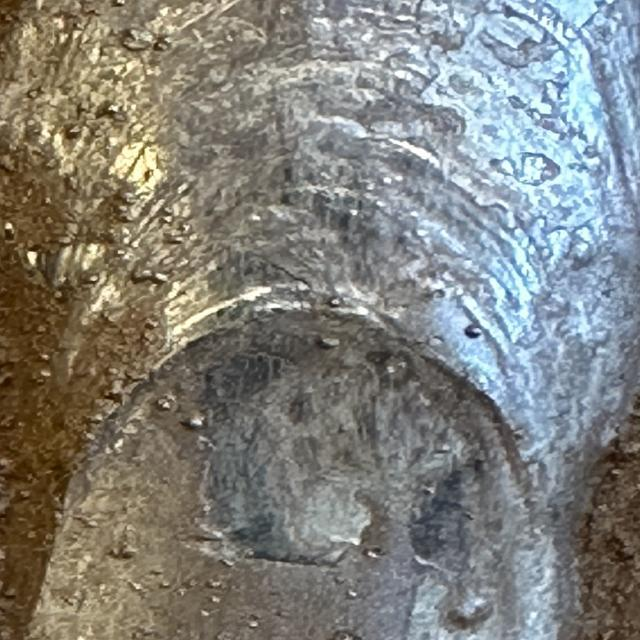Spatters: (447, 594, 495, 629), (162, 200, 192, 244), (122, 29, 172, 51), (113, 192, 138, 222), (180, 411, 207, 430), (110, 541, 138, 559), (132, 270, 168, 284), (153, 394, 177, 411), (73, 515, 98, 527), (330, 631, 362, 640), (63, 124, 82, 139), (463, 324, 483, 338), (317, 338, 340, 349), (100, 100, 117, 114), (82, 271, 100, 284), (3, 222, 15, 239), (327, 296, 342, 308), (112, 246, 127, 258), (145, 318, 160, 330), (107, 368, 125, 378), (158, 579, 172, 591), (347, 590, 358, 599), (248, 620, 258, 628)
